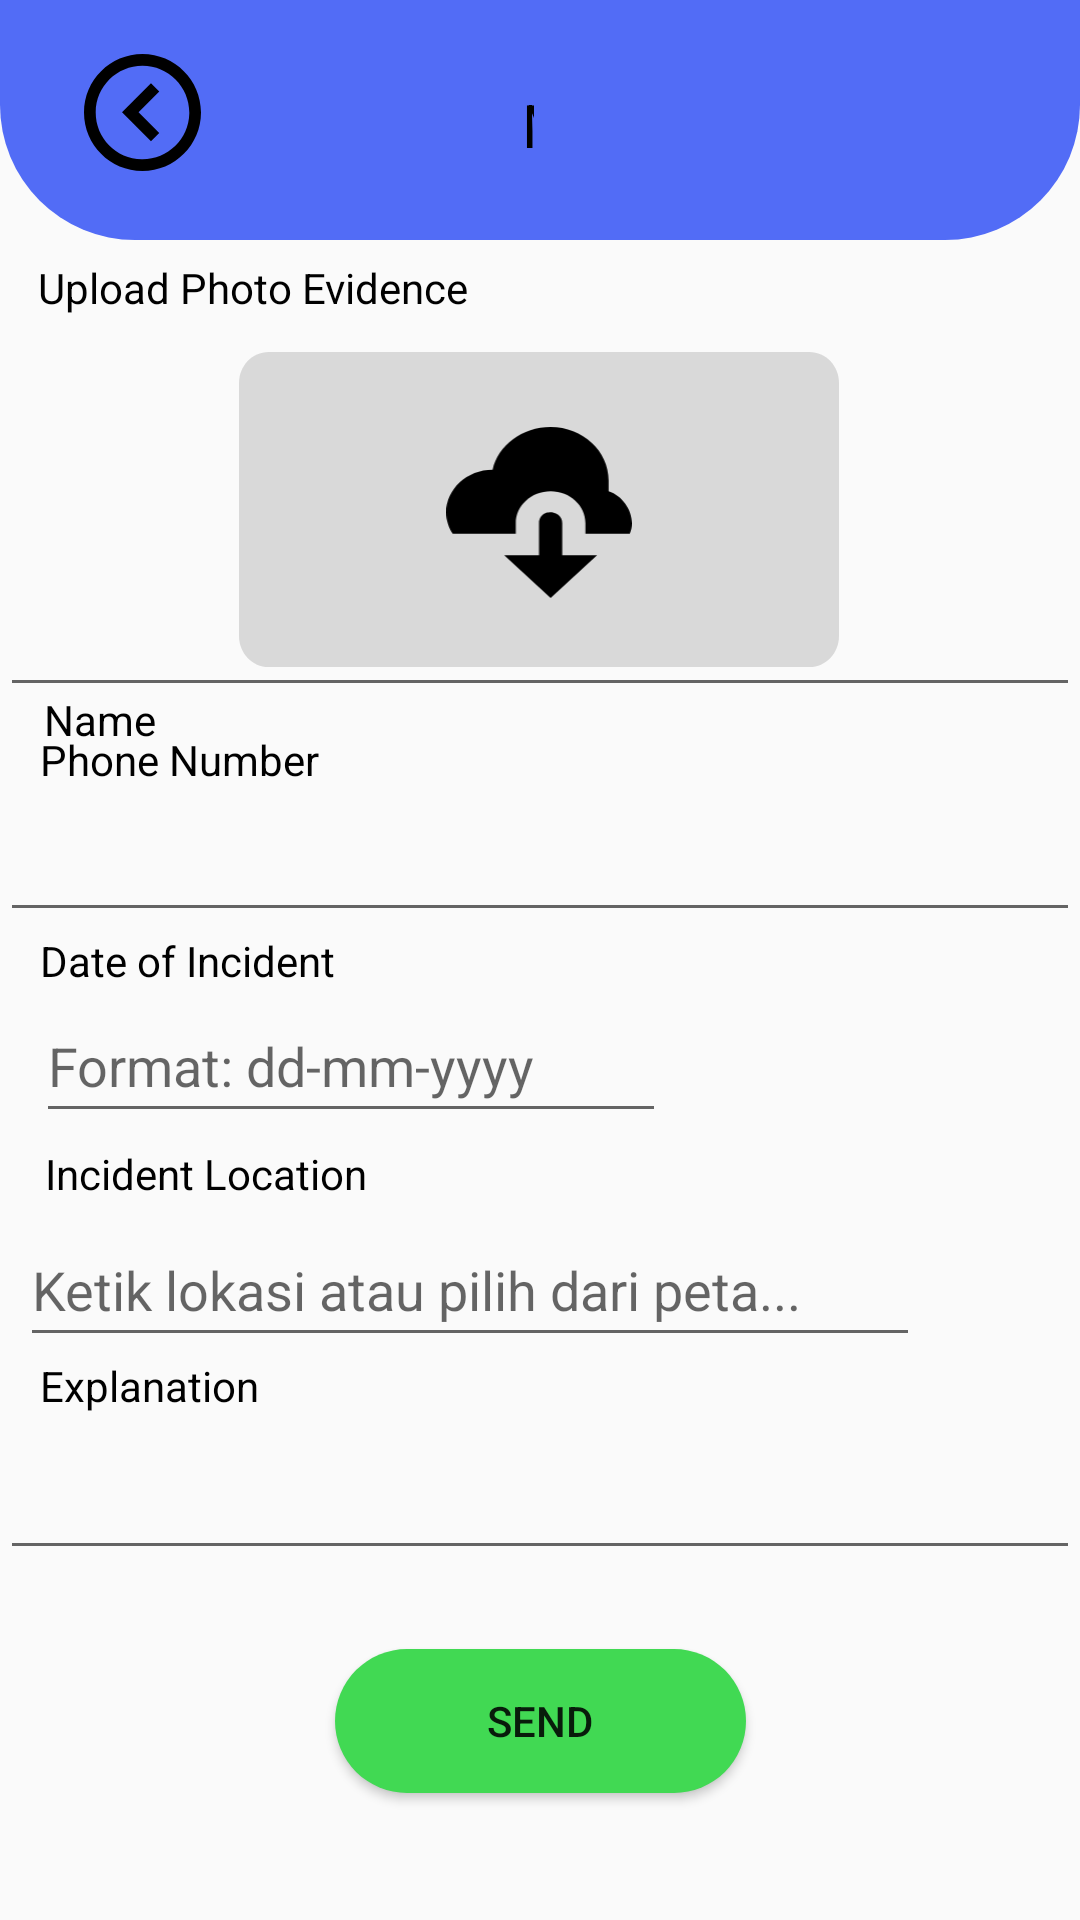

Icon bounding boxes for this 1080px×1920px phone screenshot, format (x1, y1, x2, y2):
cloud download: (446, 427, 632, 598)
